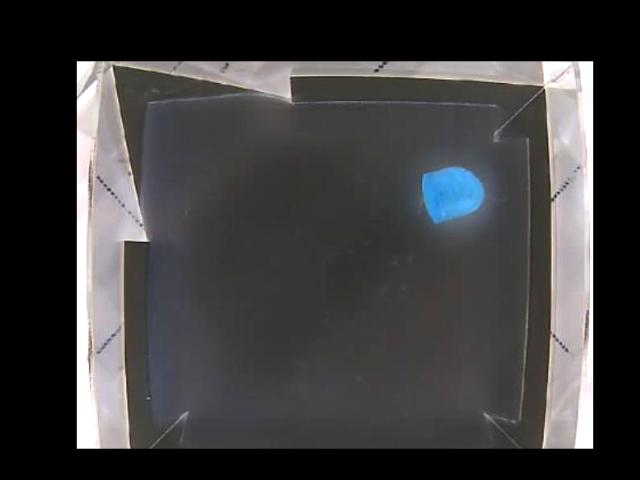Carrot: (420, 166, 484, 221)
